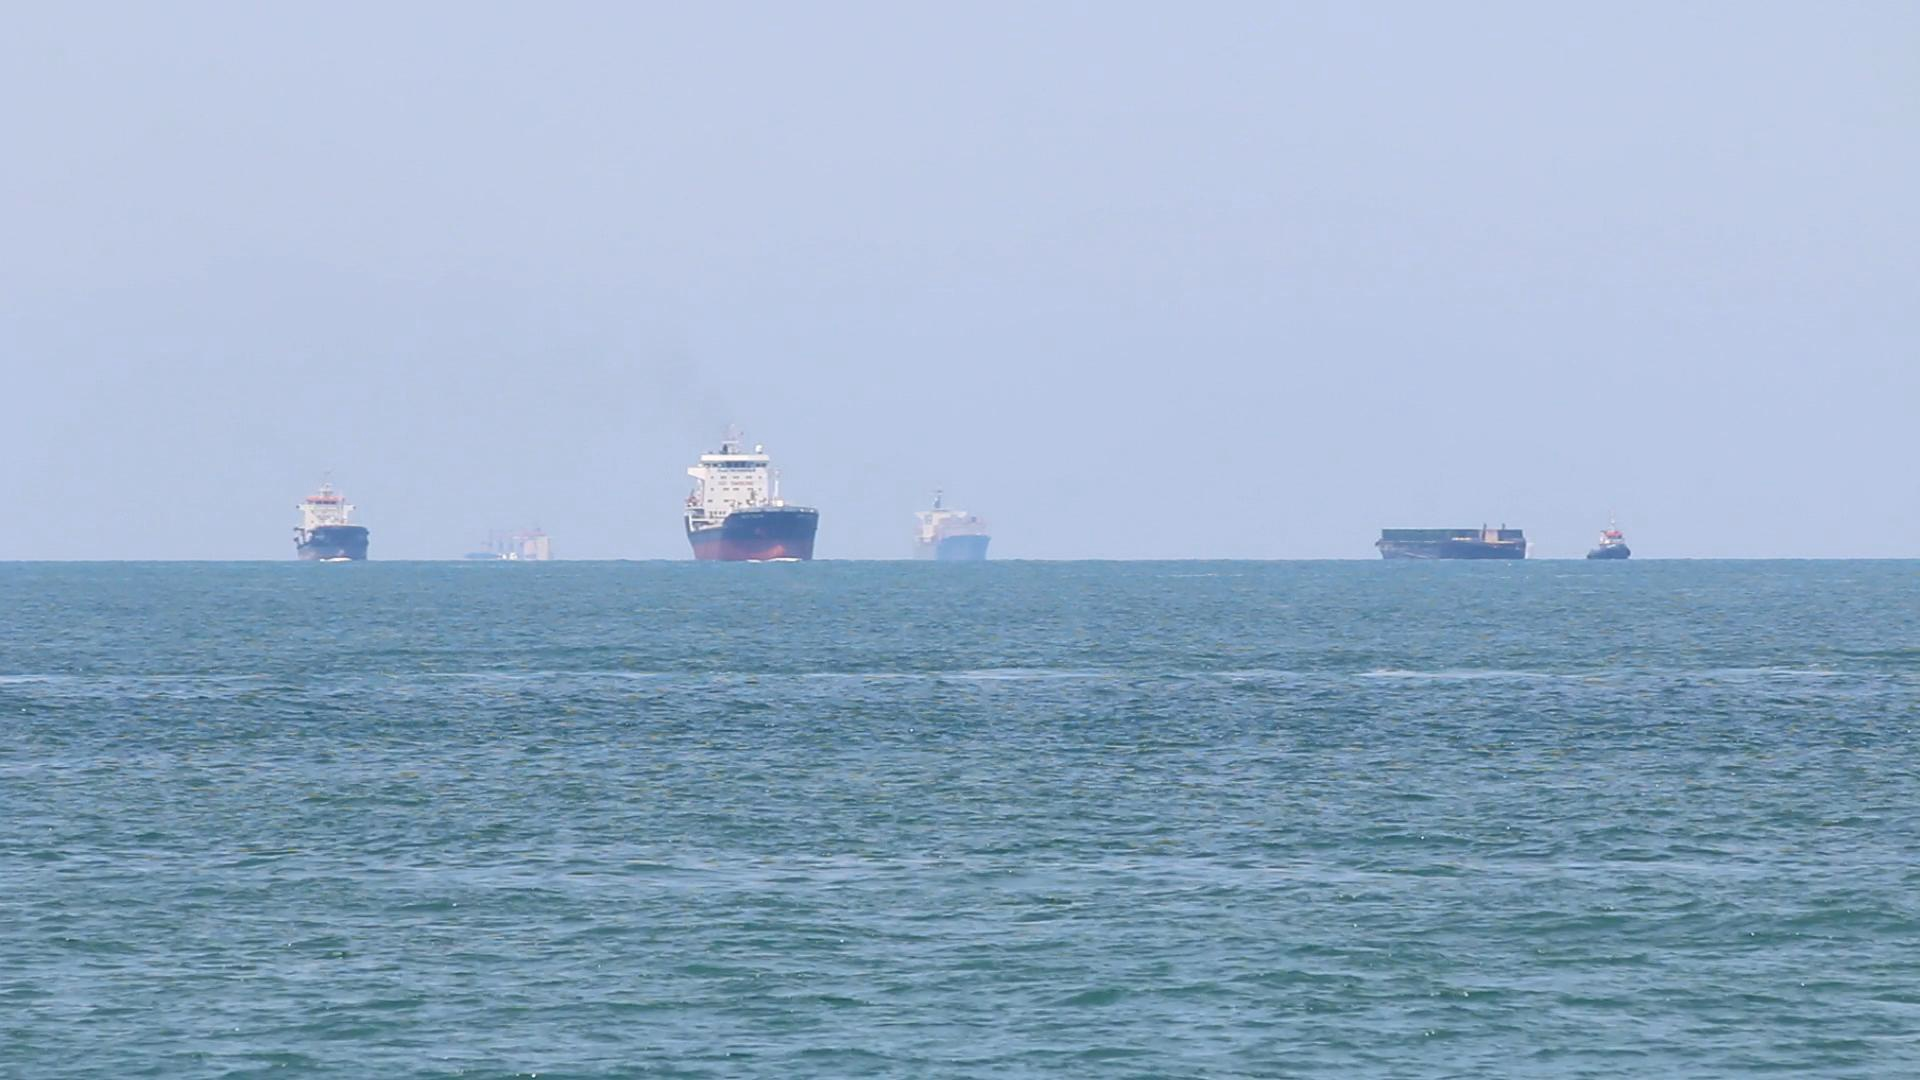Container Ship: (675, 414, 827, 568), (1370, 508, 1542, 563), (287, 463, 375, 570), (901, 480, 996, 571), (1576, 521, 1640, 567)
